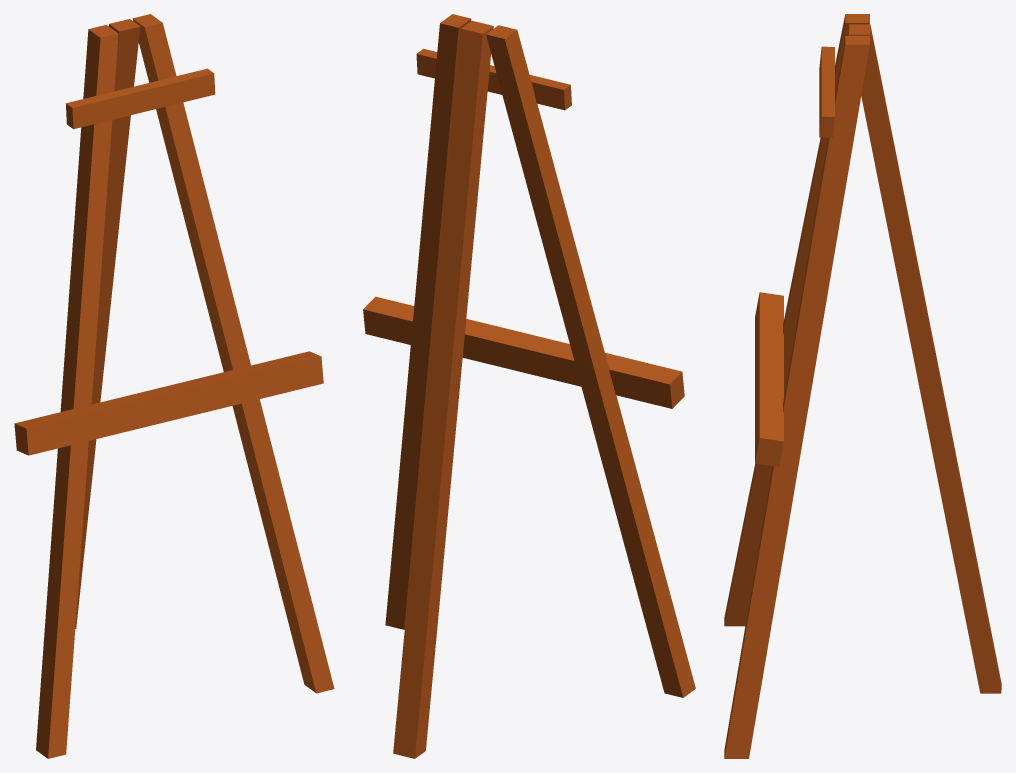
The model's file is easel copper.glb.
The picture shows the model from 3 angles, left to right: view 1: azimuth 30°, elevation 25°; view 2: azimuth 150°, elevation 25°; view 3: azimuth 270°, elevation 25°; orthographic projection. The views are drawn at different scales.
Parts seen in each view (by area): view 1: tripod eisel copper; view 2: tripod eisel copper; view 3: tripod eisel copper.
Boxes of the visible parts, <box> form: tripod eisel copper: <box>14,14,334,758</box>; tripod eisel copper: <box>363,14,695,758</box>; tripod eisel copper: <box>724,14,1001,758</box>.
Size of the model in its own units: 0.9503 by 2 by 0.7627.
